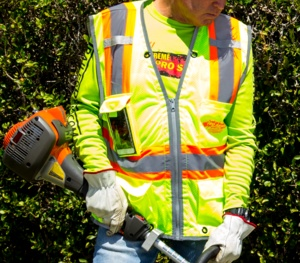person with partial safety: (79, 3, 245, 263)
safety vest: (93, 8, 236, 238)
